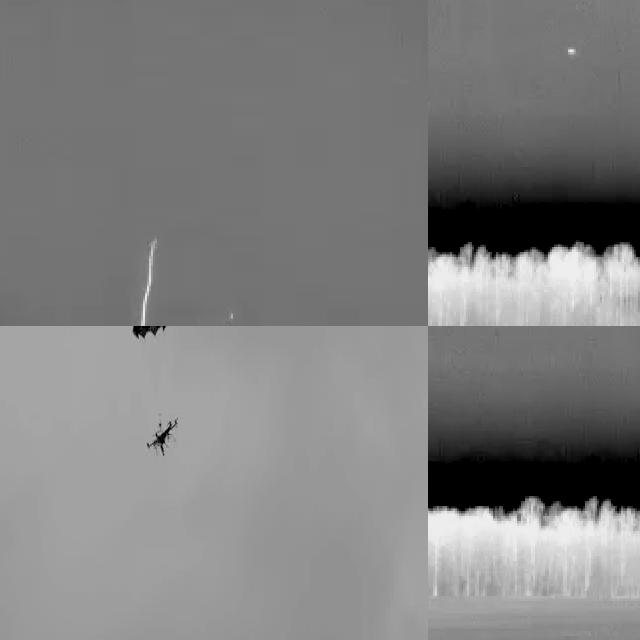0: (221, 305, 247, 326)
1: (565, 43, 587, 66)
drone: (147, 416, 179, 456)
